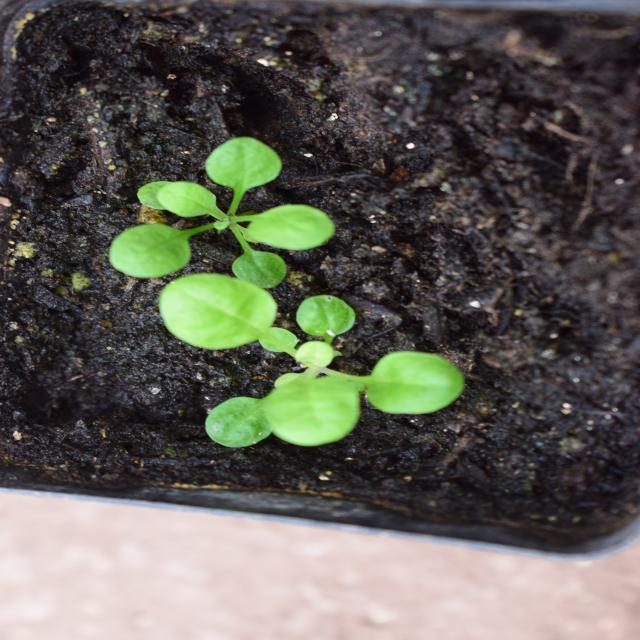Shepherd_Purse: (186, 151, 372, 441), (368, 110, 505, 341)
